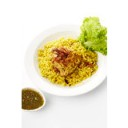briyani: (42, 39, 89, 84)
